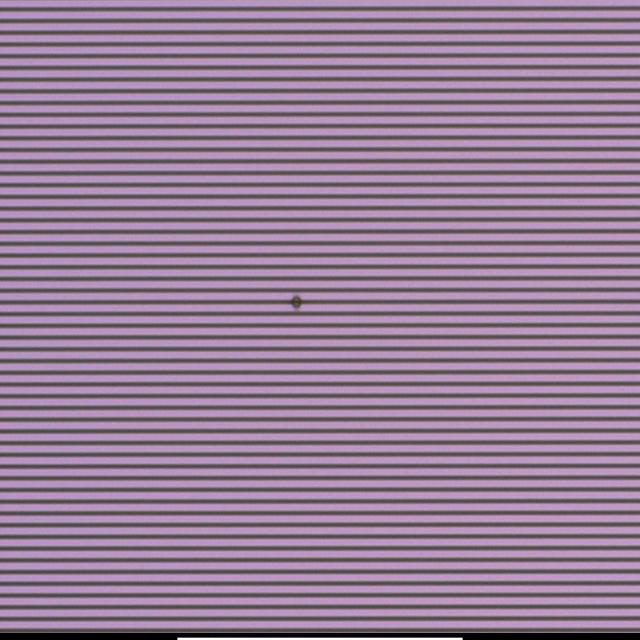03_intrusion: (282, 281, 310, 319)
